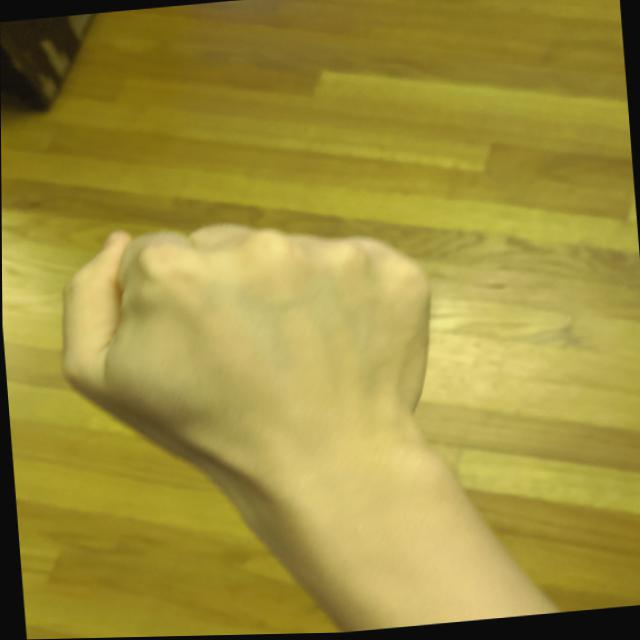A: (41, 196, 451, 504)
